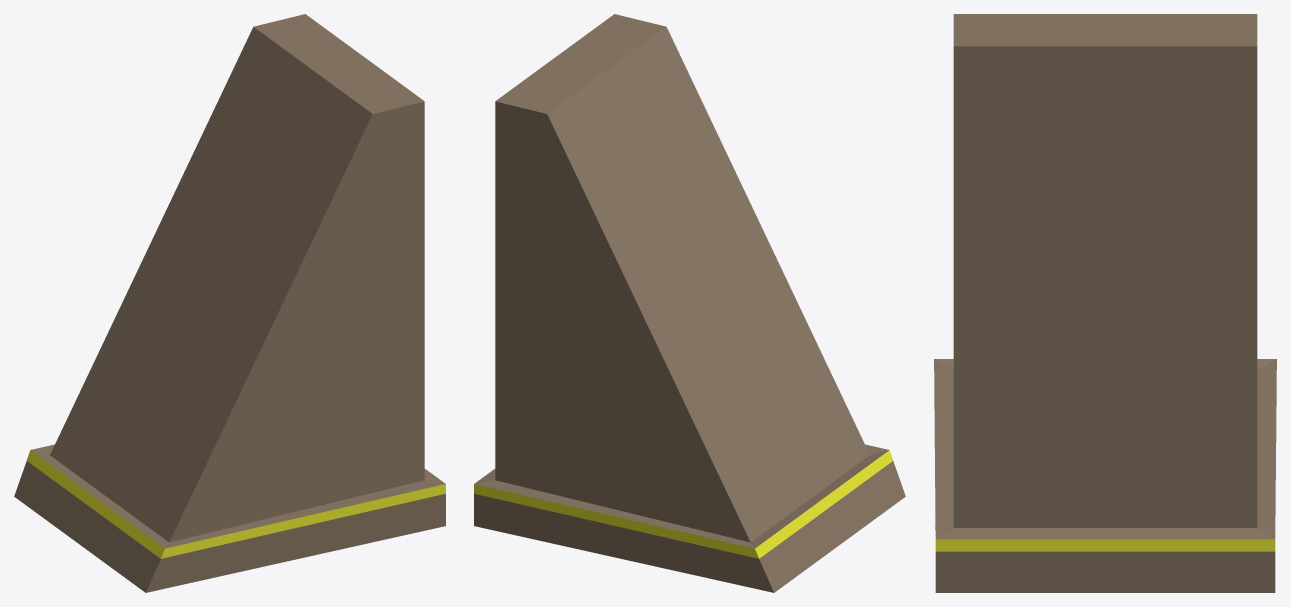
Rendered from MarketAngledPillar.fbx.
3 renders of one model, left to right at view 1: azimuth 30°, elevation 25°; view 2: azimuth 150°, elevation 25°; view 3: azimuth 270°, elevation 25°, orthographic. The views are drawn at different scales.
Visible parts, largest first — view 1: market_anglepillar; view 2: market_anglepillar; view 3: market_anglepillar.
Part boxes in pixels (x1=…): market_anglepillar: x1=14, y1=14, x2=445, y2=592; market_anglepillar: x1=474, y1=14, x2=905, y2=592; market_anglepillar: x1=934, y1=14, x2=1276, y2=592.
Size of the model in its own units: 45.61 by 61.61 by 35.59.
